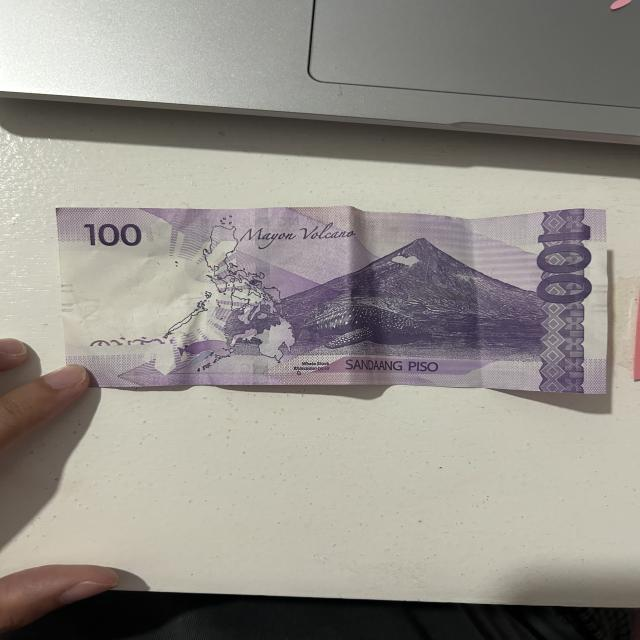100_whale: (290, 308, 435, 353)
100_whale_watermark: (179, 336, 241, 362)
value_watermark: (80, 297, 103, 326)
